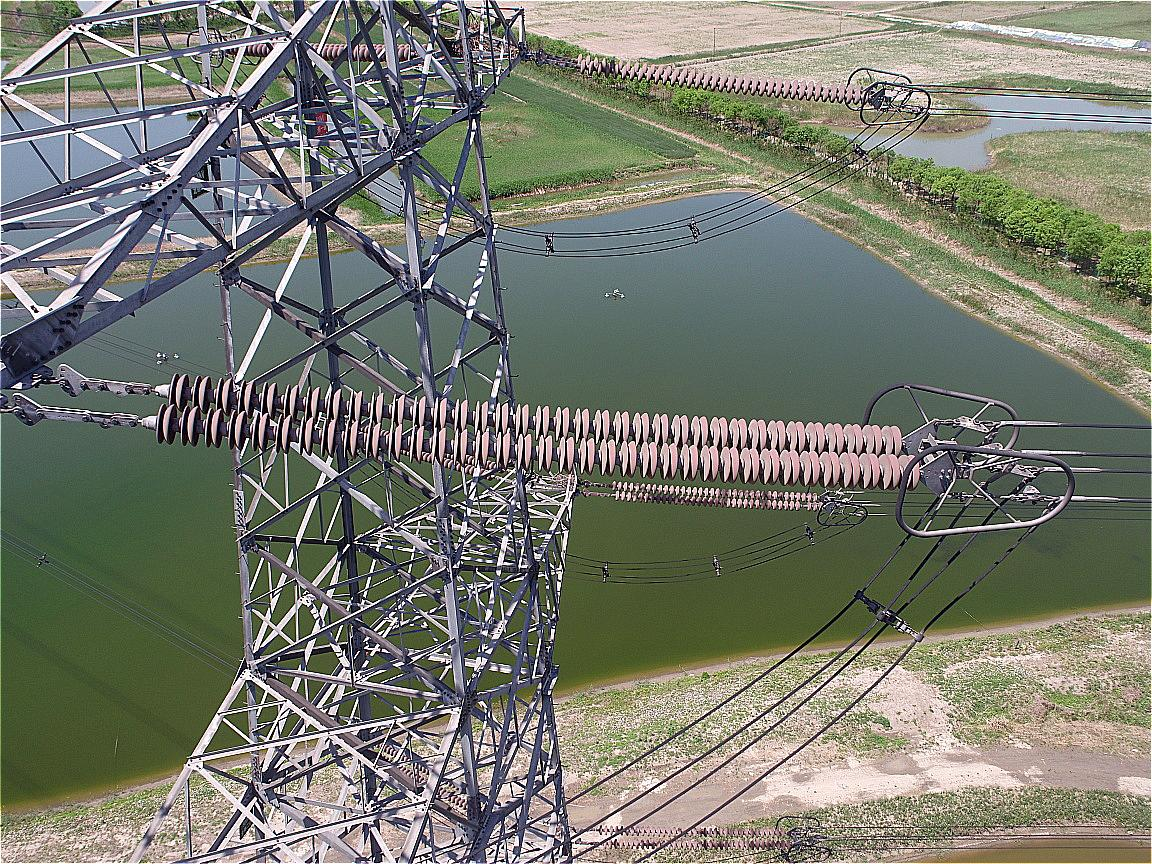insultor1: (578, 54, 869, 106), (597, 825, 794, 854)
insultor2: (154, 373, 921, 491)
